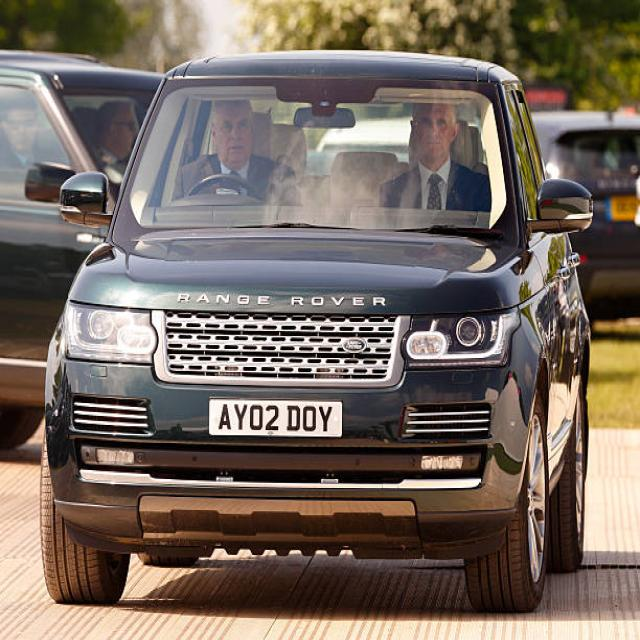number_plate: (198, 388, 354, 457)
